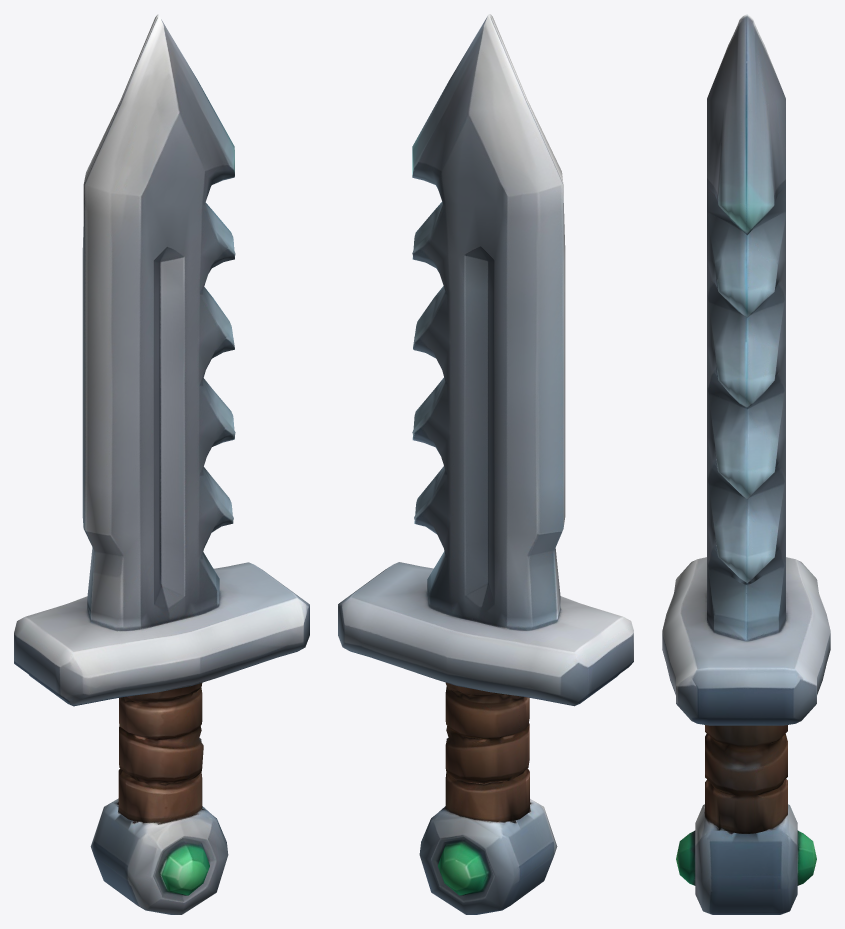
File: w_hunter.glb
3 views of the same model, side by side, from view 1: azimuth 30°, elevation 25°; view 2: azimuth 150°, elevation 25°; view 3: azimuth 270°, elevation 25° (orthographic).
Visible parts, largest first — view 1: Weapon; view 2: Weapon; view 3: Weapon.
Boxes of the visible parts, x1,y1,x2,y2 form: Weapon: (14,14,309,914); Weapon: (338,14,633,914); Weapon: (662,14,830,914).
Bounding box in the file's own units: 0.2894 × 0.9794 × 0.1667.
Materials: 1 (1 with a texture image).
